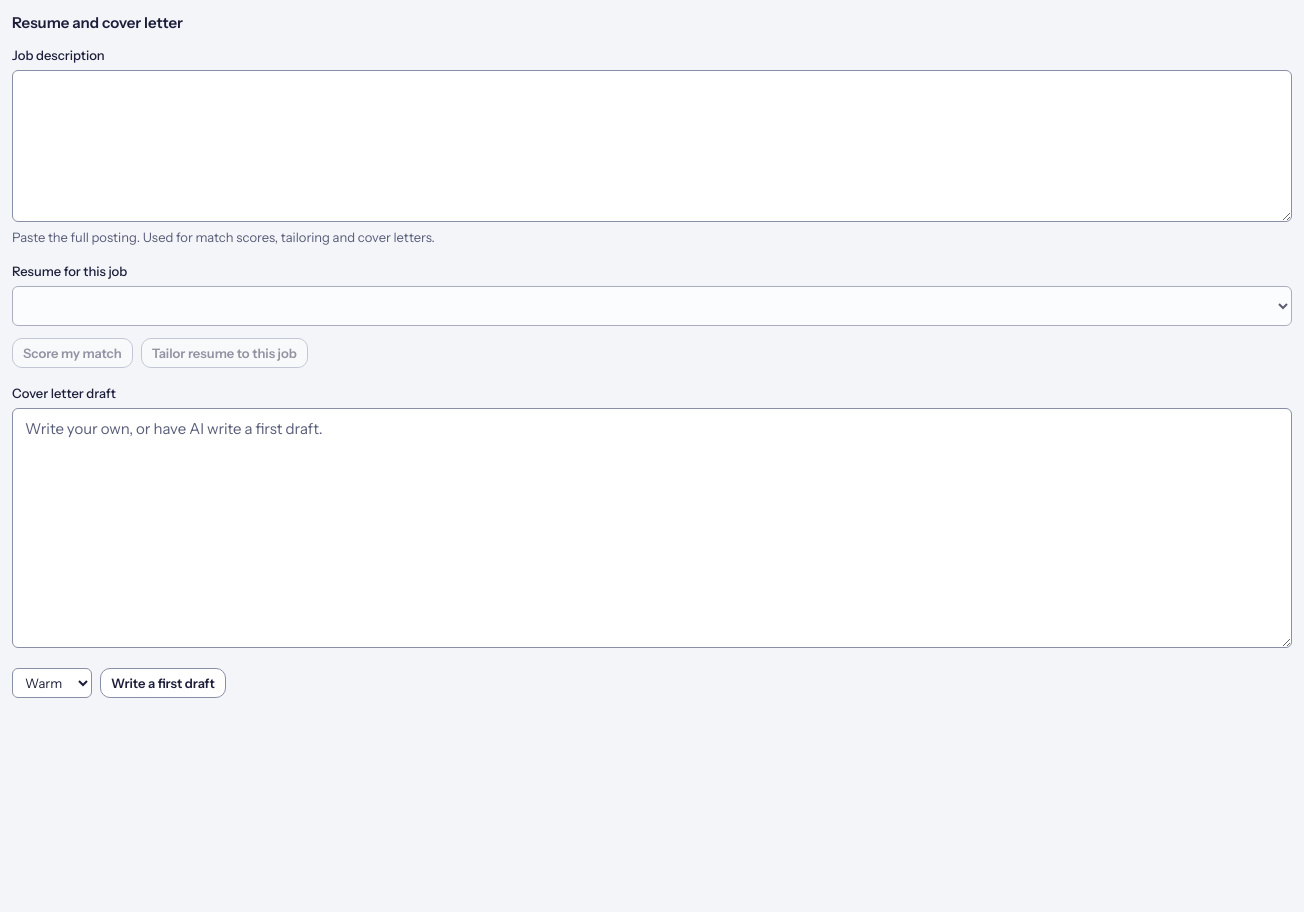
Test case: ApplicationAiSection › saves the job description, then shows the match score
Type "We need SQL." into the text box labelled "Job description" at (652, 146), box [12,70,1292,222]
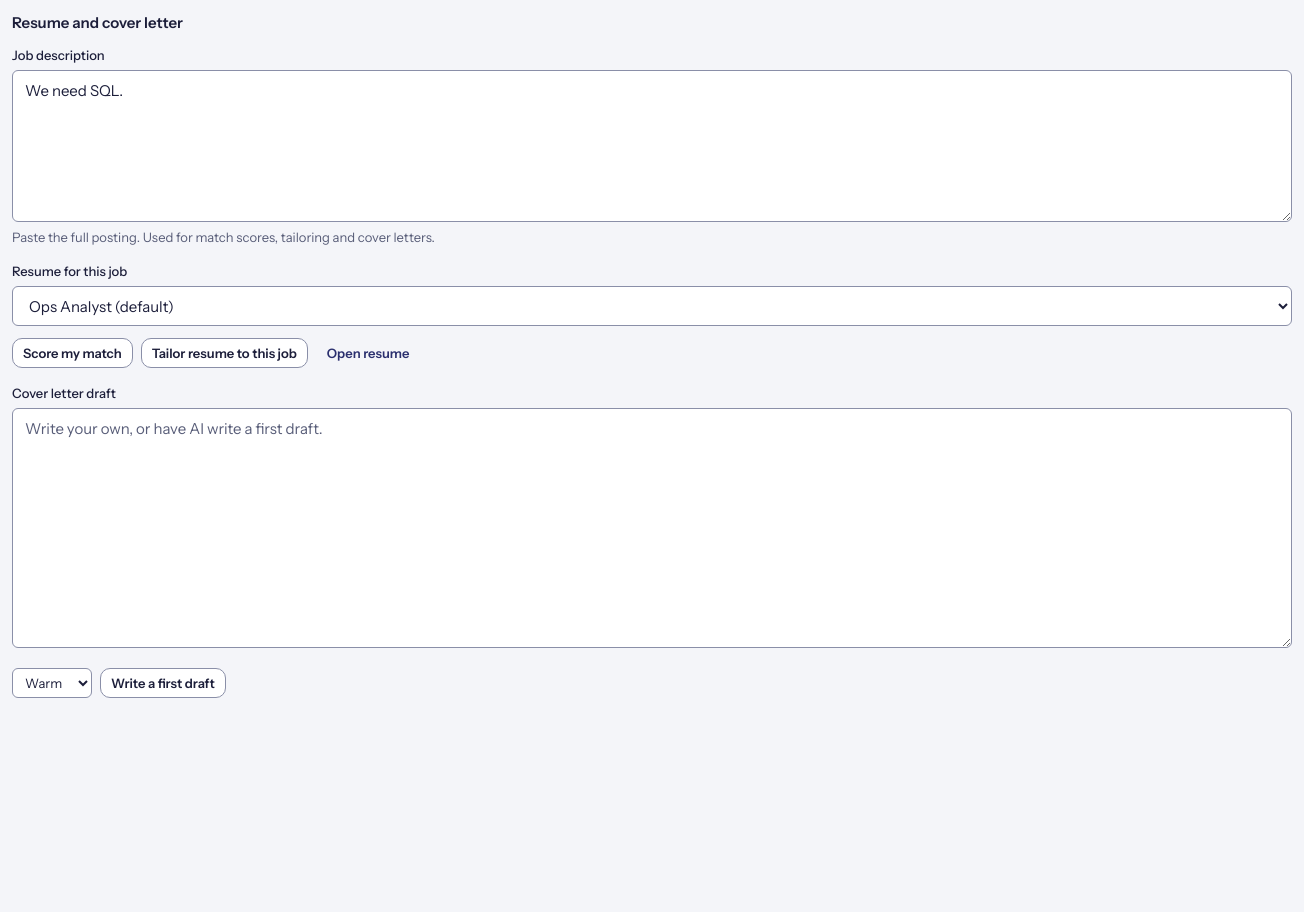
Expected: the button "Score my match" is enabled
Click the button "Score my match" at (72, 353), box [12,338,133,368]
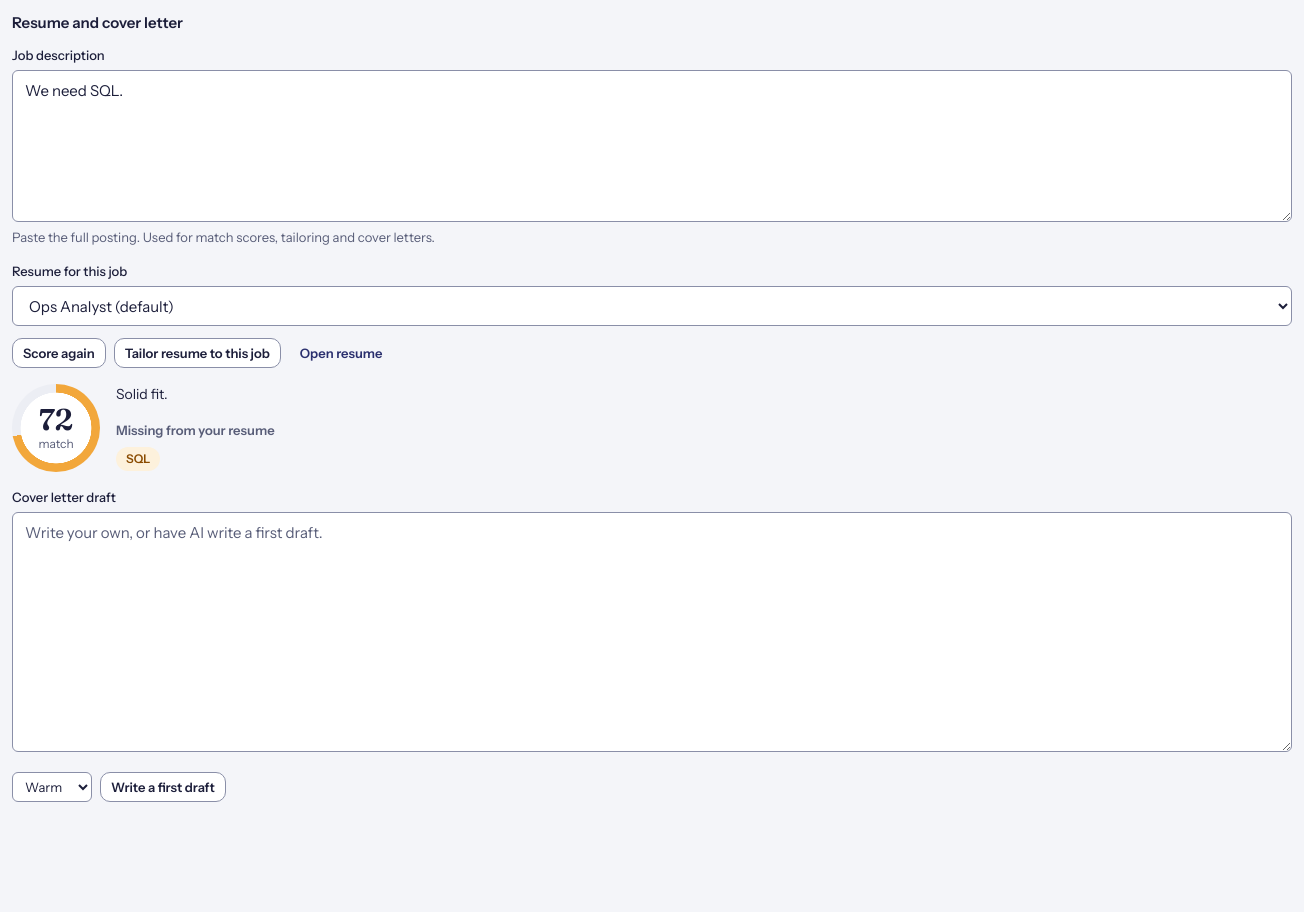
Expected: the text "72" is shown, [38,404,74,436]
Expected: the list item "SQL" is shown, [116,447,160,471]
